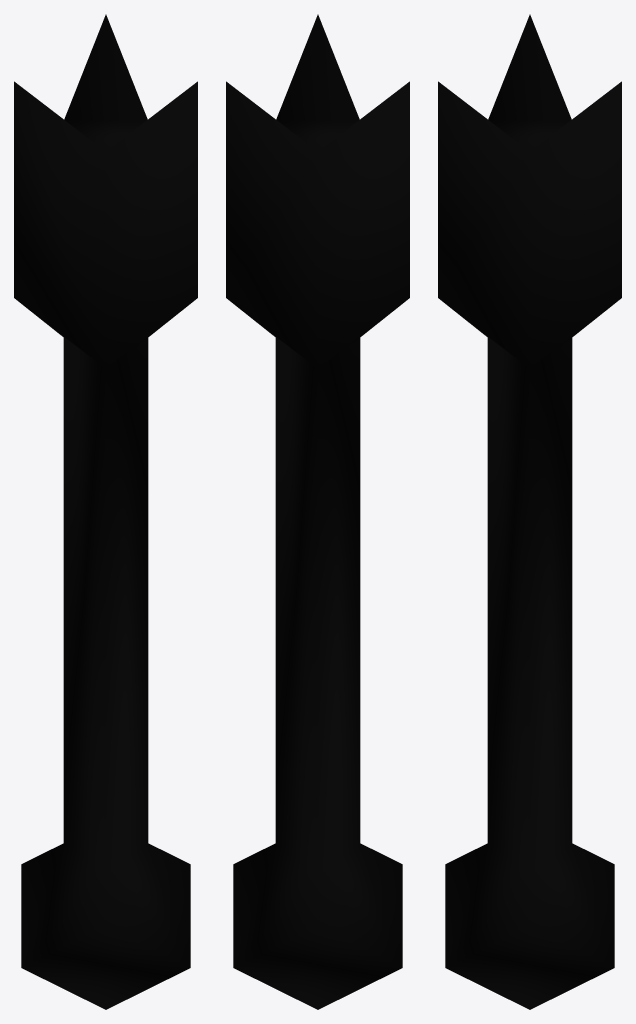
Rendered from arrow.fbx.
The picture shows the model from 3 angles, left to right: view 1: azimuth 30°, elevation 25°; view 2: azimuth 150°, elevation 25°; view 3: azimuth 270°, elevation 25°; orthographic projection.
Parts seen in each view (by area): view 1: Cube; view 2: Cube; view 3: Cube.
Boxes of the visible parts, x1=… form: Cube: x1=14, y1=14, x2=197, y2=1009; Cube: x1=226, y1=14, x2=409, y2=1009; Cube: x1=438, y1=14, x2=621, y2=1009.
Bounding box in the file's own units: 0.1598 × 0.8228 × 0.1441.
